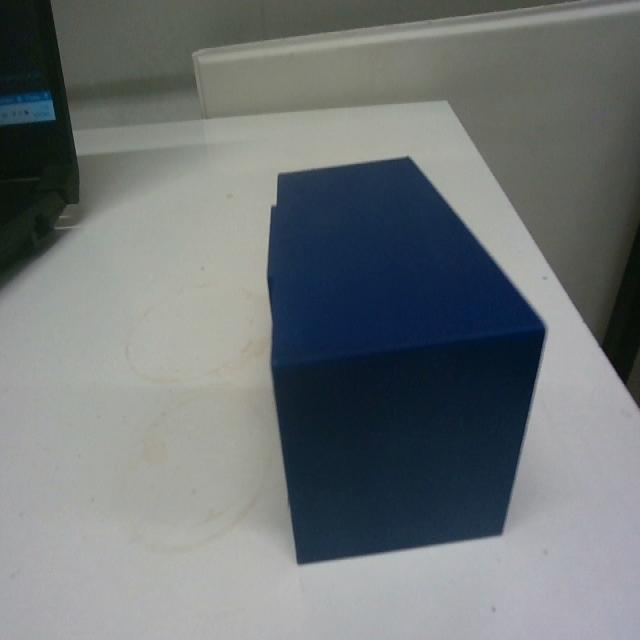Blue Cuboid: (263, 151, 548, 565)
